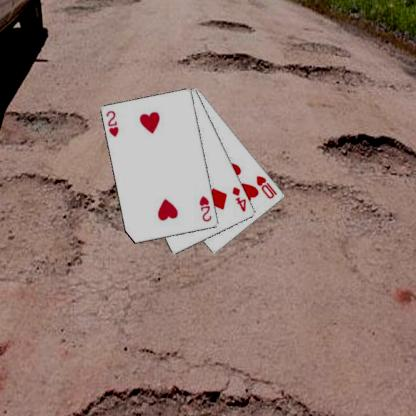10H: (254, 173, 278, 200)
2H: (104, 108, 120, 139), (197, 193, 213, 223)
4D: (230, 184, 247, 213)
